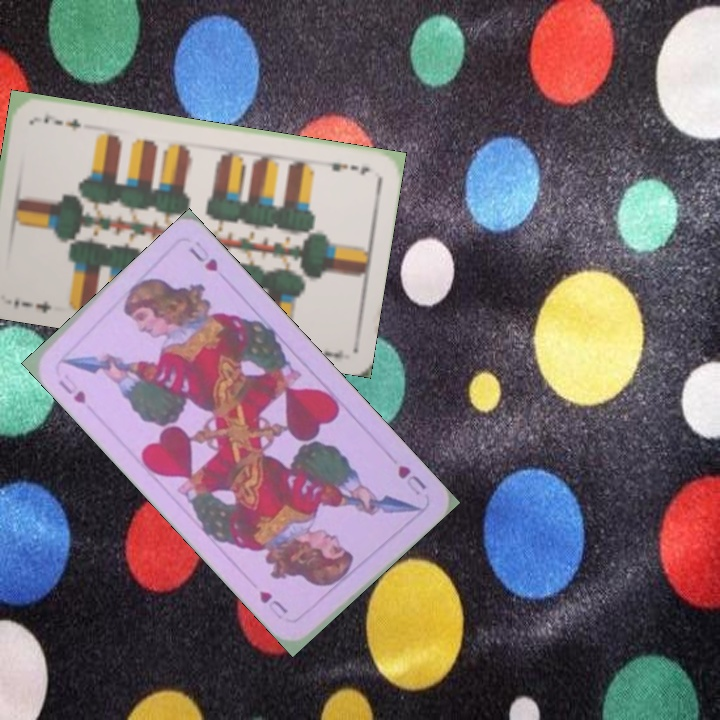E7: (318, 156, 373, 178), (10, 296, 54, 316)
HU: (393, 461, 429, 498), (54, 370, 89, 407)
